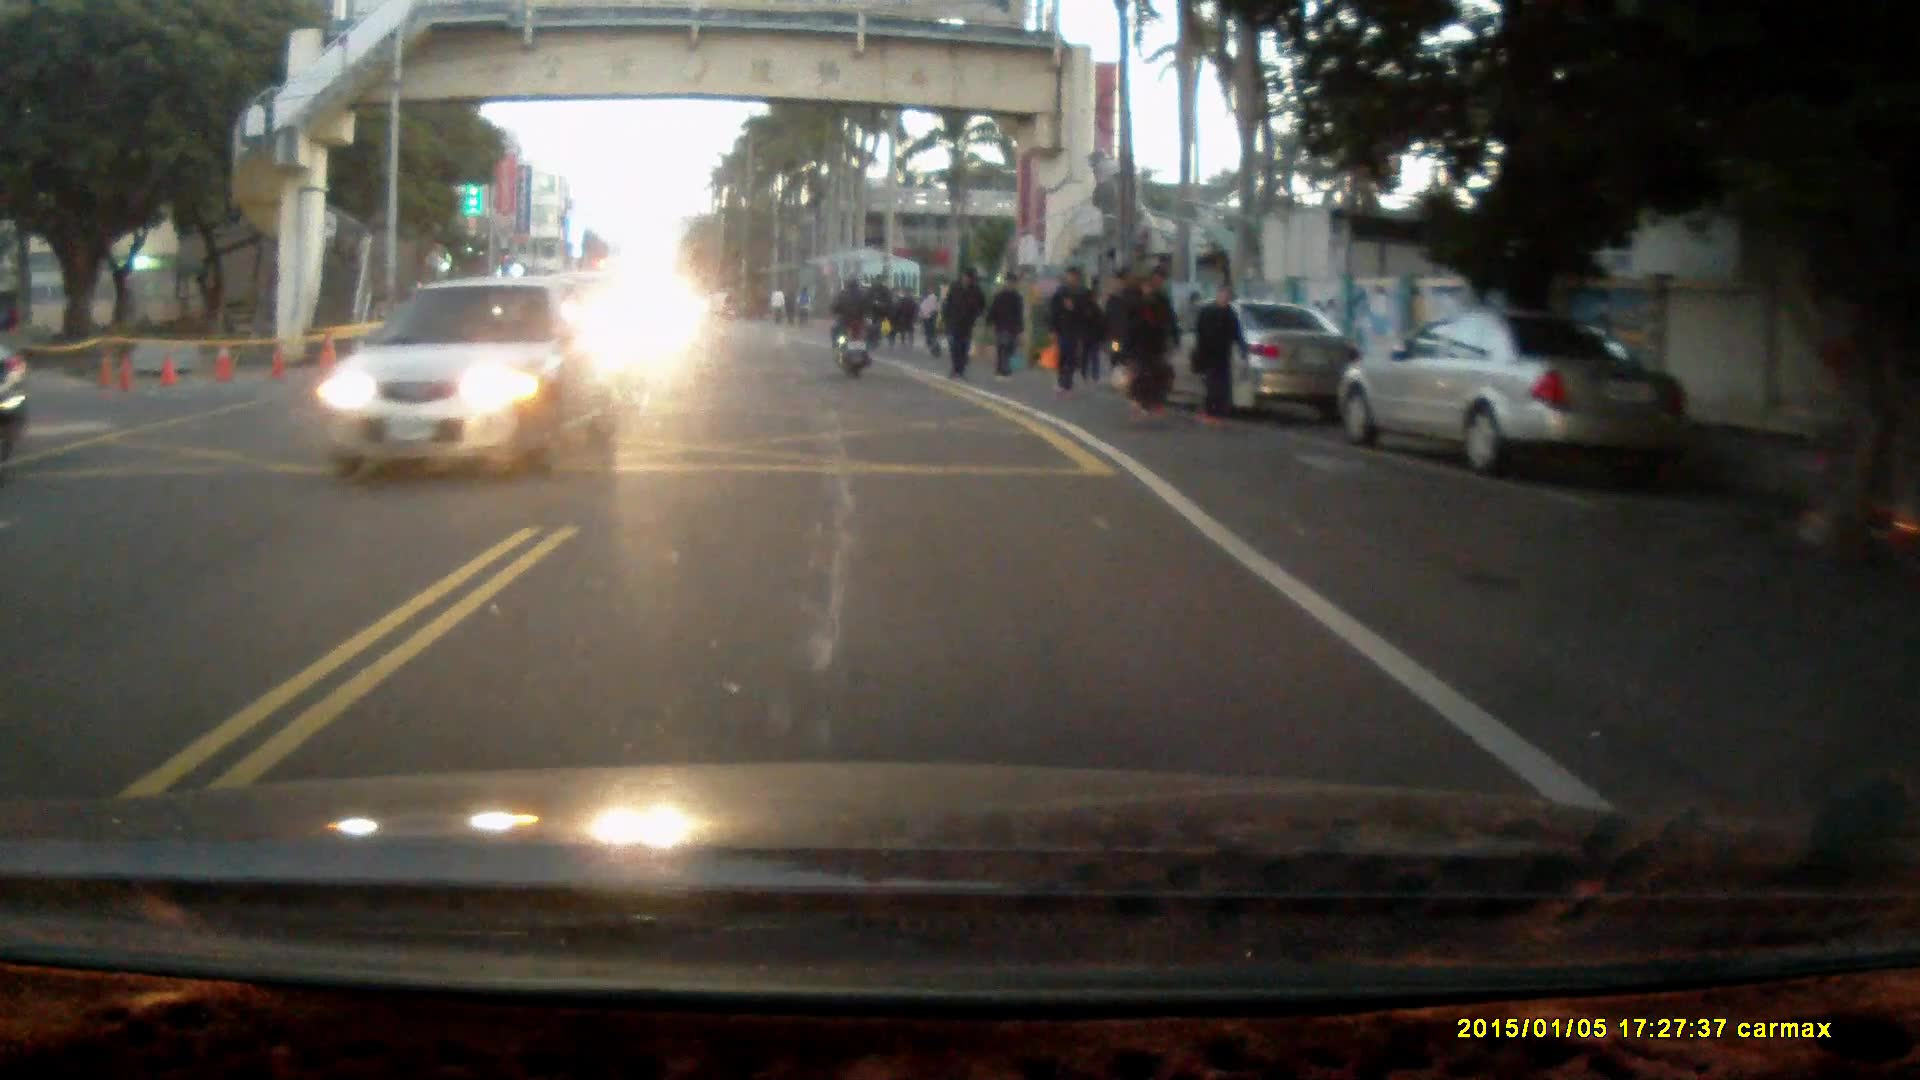pedestrian: (1189, 282, 1249, 430), (1122, 274, 1172, 425), (1046, 263, 1091, 395), (939, 265, 987, 381), (985, 270, 1028, 382)
rider: (828, 272, 879, 379)
vehicle: (314, 274, 629, 478), (1344, 307, 1693, 473), (1127, 301, 1368, 416), (1, 296, 32, 465)
